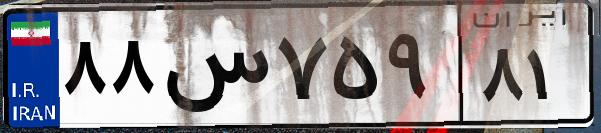1: (525, 38, 570, 115)
5: (330, 28, 385, 110)
7: (270, 28, 330, 110)
8: (57, 26, 110, 100), (475, 38, 525, 113), (110, 28, 158, 98)
9: (385, 28, 445, 110)
س: (158, 20, 270, 120)
